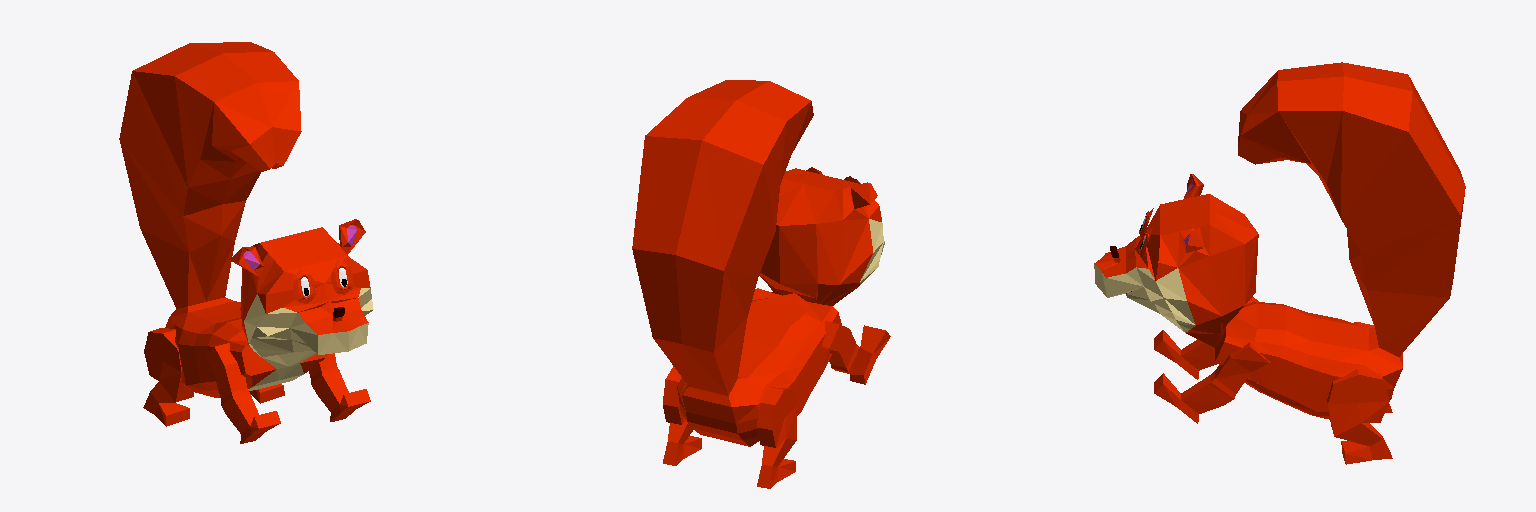
Rendered from swn.obj.
3 views of the same model, side by side, from view 1: azimuth 30°, elevation 25°; view 2: azimuth 150°, elevation 25°; view 3: azimuth 270°, elevation 25° (orthographic).
Parts seen in each view (by area): view 1: Cube_Material, Cube_Material.0012, Cube.004_Material.007, Cube.002_Material.006, Cube.001_Material.0062; view 2: Cube_Material, Cube.004_Material.007, Cube.002_Material.006, Cube.003_Material.0072, Cube_Material.0012; view 3: Cube_Material, Cube.003_Material.0072, Cube.001_Material.0062, Cube_Material.0012, Cube.002_Material.006.
Boxes of the visible parts, box(x1,y1,x2,y2) form: Cube_Material: box(119, 42, 370, 397); Cube_Material.0012: box(244, 288, 373, 390); Cube.004_Material.007: box(143, 328, 193, 426); Cube.002_Material.006: box(204, 343, 280, 443); Cube.001_Material.0062: box(309, 353, 370, 421); Cube_Material: box(632, 80, 881, 446); Cube.004_Material.007: box(757, 387, 796, 488); Cube.002_Material.006: box(822, 321, 890, 384); Cube.003_Material.0072: box(663, 366, 701, 465); Cube_Material.0012: box(860, 219, 884, 284); Cube_Material: box(1094, 62, 1465, 419); Cube.003_Material.0072: box(1327, 369, 1392, 464); Cube.001_Material.0062: box(1154, 342, 1269, 423); Cube_Material.0012: box(1094, 264, 1195, 332); Cube.002_Material.006: box(1154, 297, 1258, 379).
Bounding box in the file's own units: 2.6 × 6.89 × 6.47.